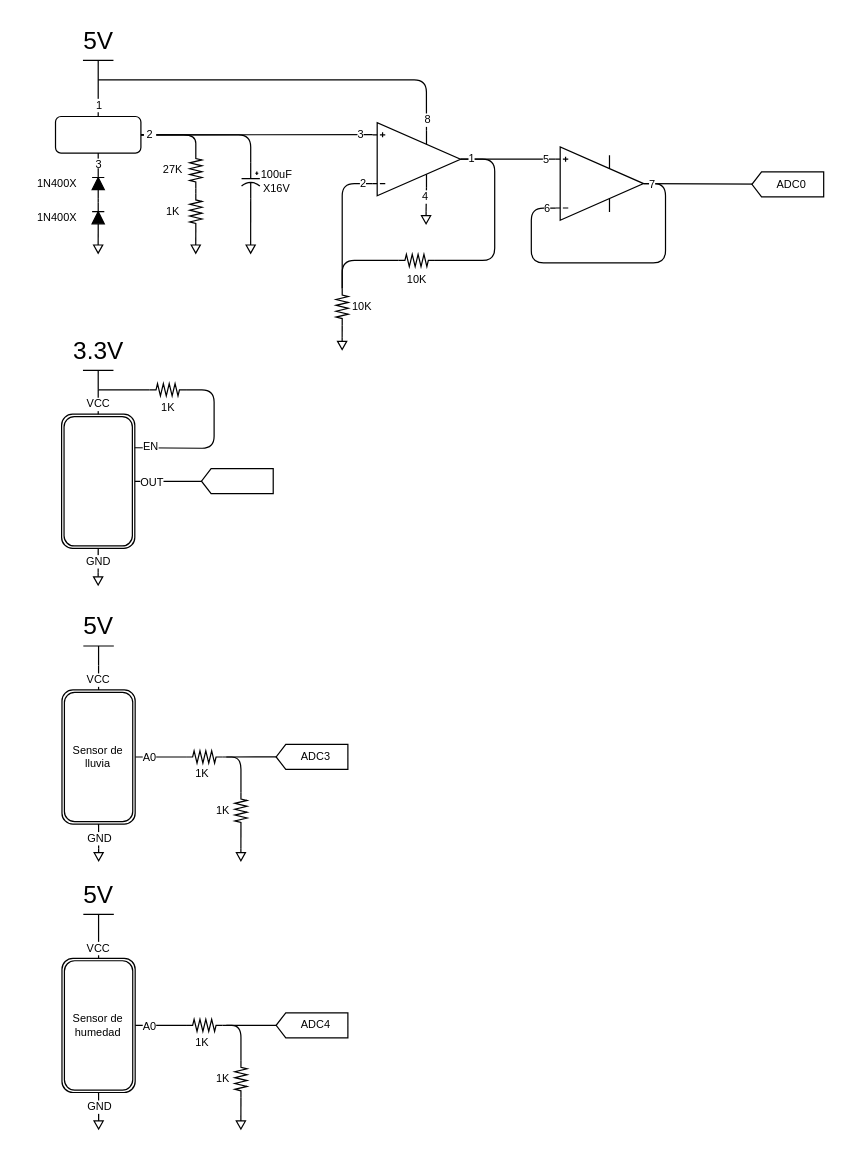
Some shapes in this 845 by 1150 pixel diagram are drawn without their labels. The shapes that lost their labels are listed below. From the top down, each one's centre as x and y in pixels, then its label:
At (97,134): "LM35".
At (416,158): "LM358-A".
At (599,183): "LM358-B".
At (97,480): "ML8511".
At (236,481): "ADC2".
